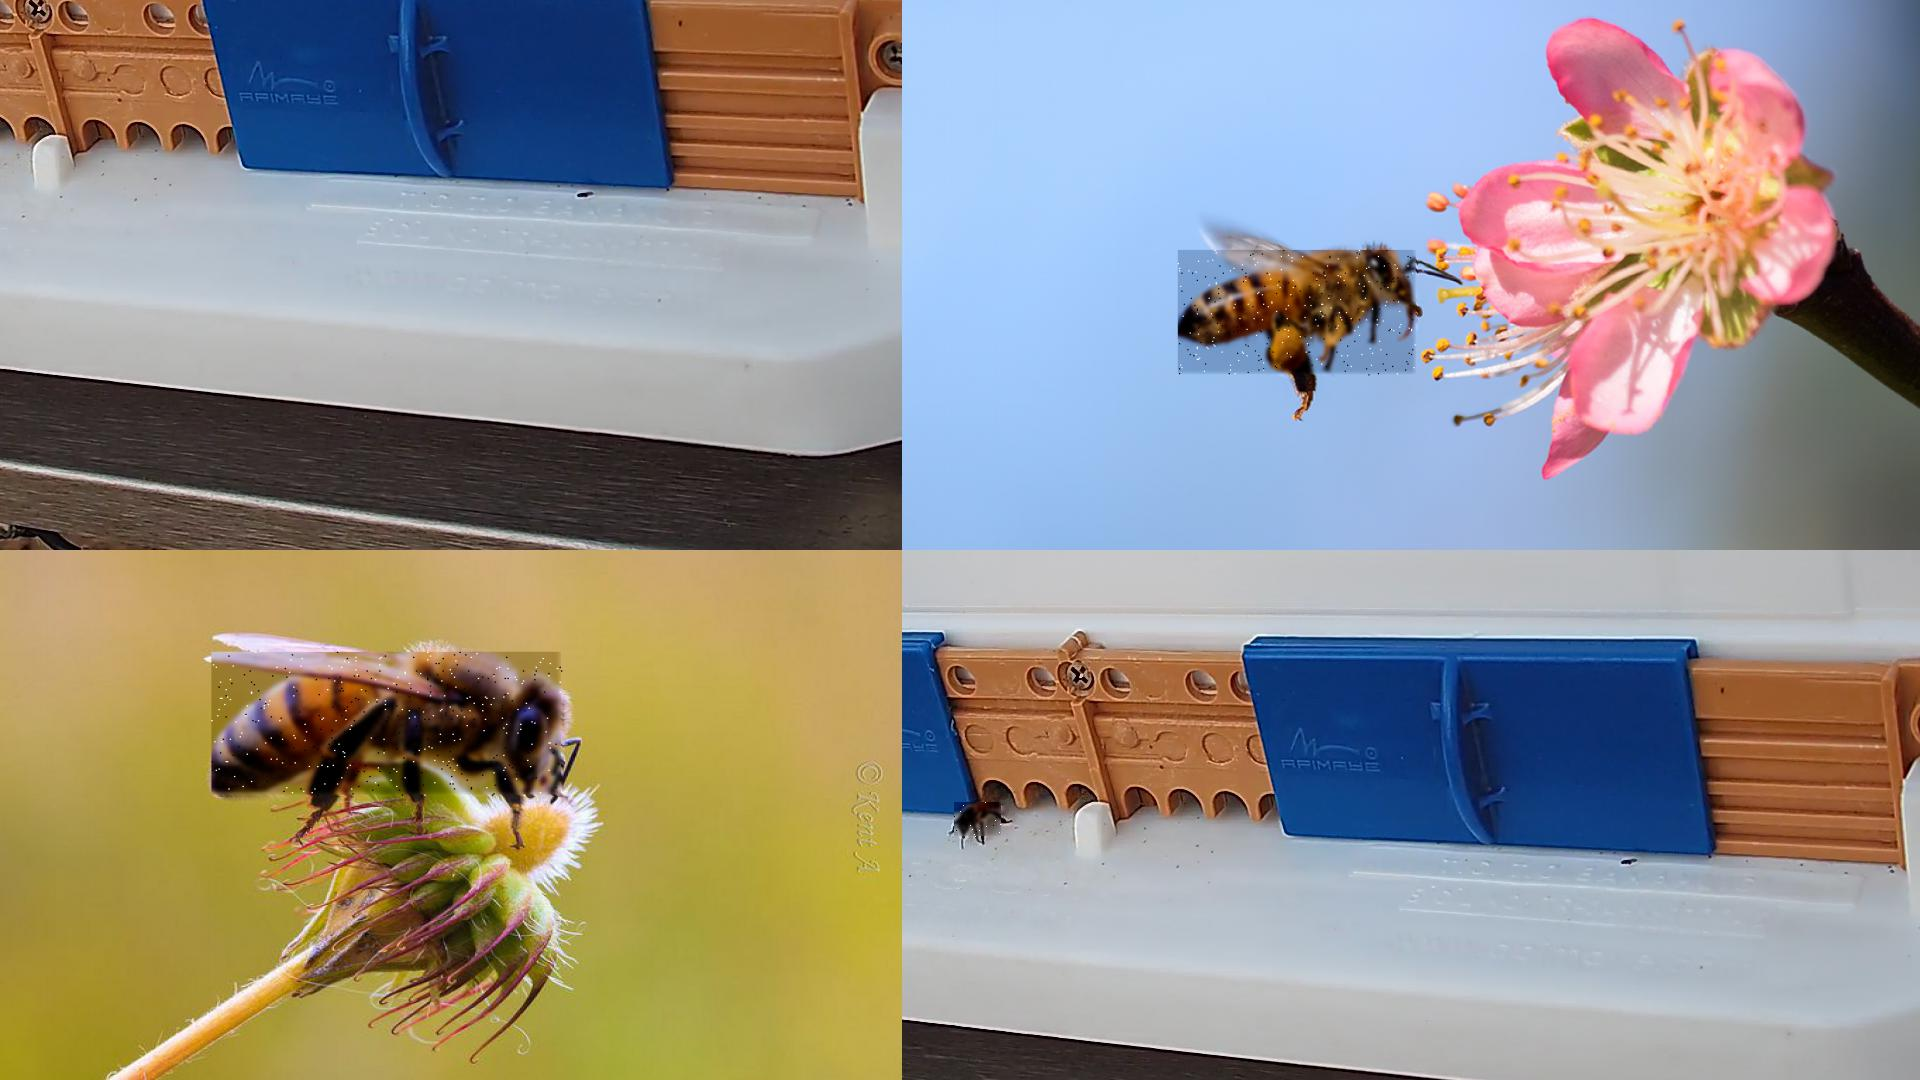bee: (212, 653, 564, 798), (955, 803, 1002, 839)
pollenbee: (1179, 251, 1419, 378)
